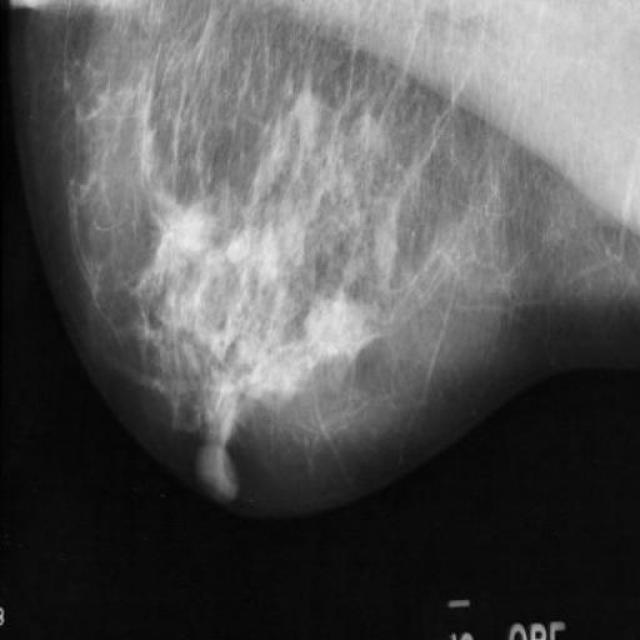cancer: (112, 287, 169, 359)
